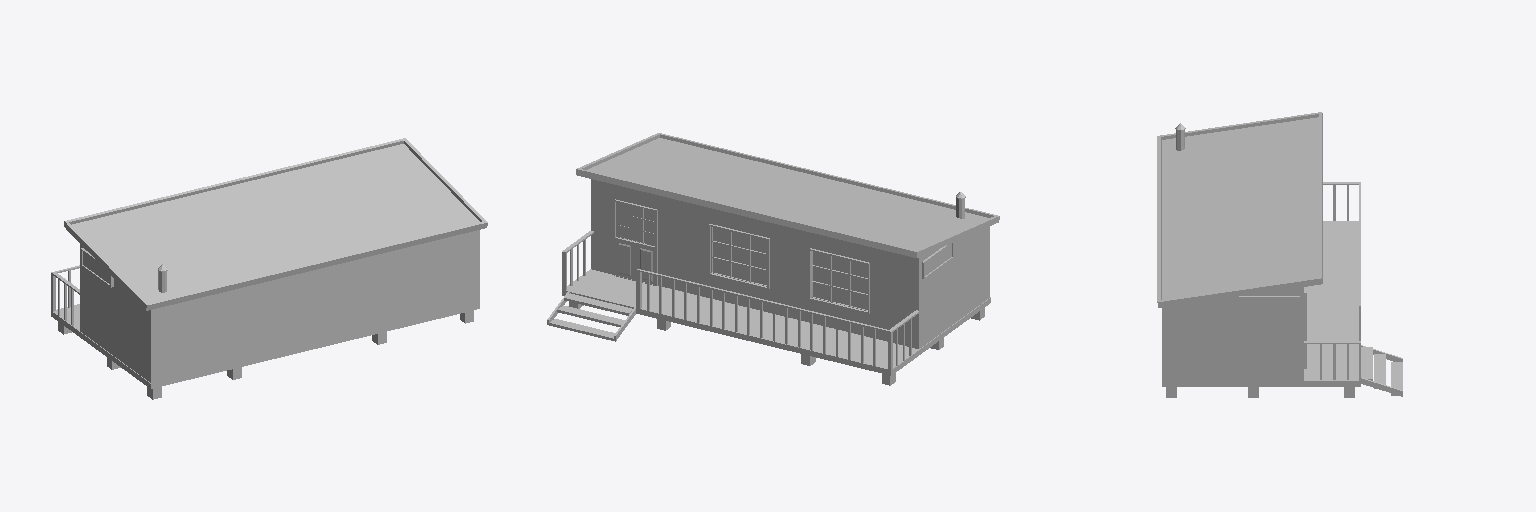
Rendered from air_building2.obj.
3 renders of one model, left to right at view 1: azimuth 30°, elevation 25°; view 2: azimuth 150°, elevation 25°; view 3: azimuth 270°, elevation 25°, orthographic.
Visible parts, largest first — view 1: airport_building_02; view 2: airport_building_02; view 3: airport_building_02.
Part boxes in pixels (bbox=[...]): airport_building_02: bbox=[51, 138, 487, 399]; airport_building_02: bbox=[547, 133, 999, 385]; airport_building_02: bbox=[1157, 112, 1402, 397].
Bounding box in the file's own units: 1.66 × 0.5877 × 1.04.